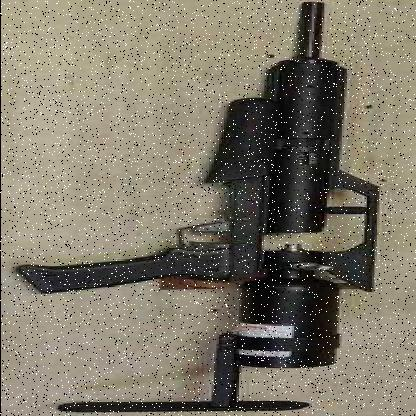rifle: (7, 59, 391, 416)
